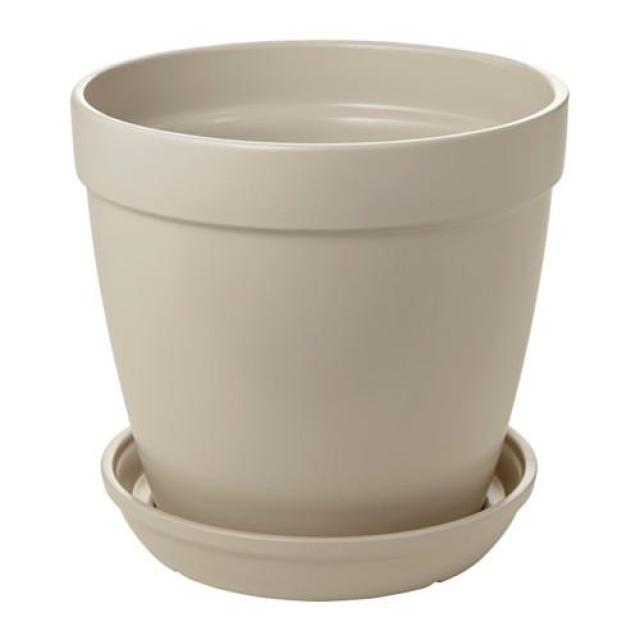plant pot: (68, 40, 571, 604)
